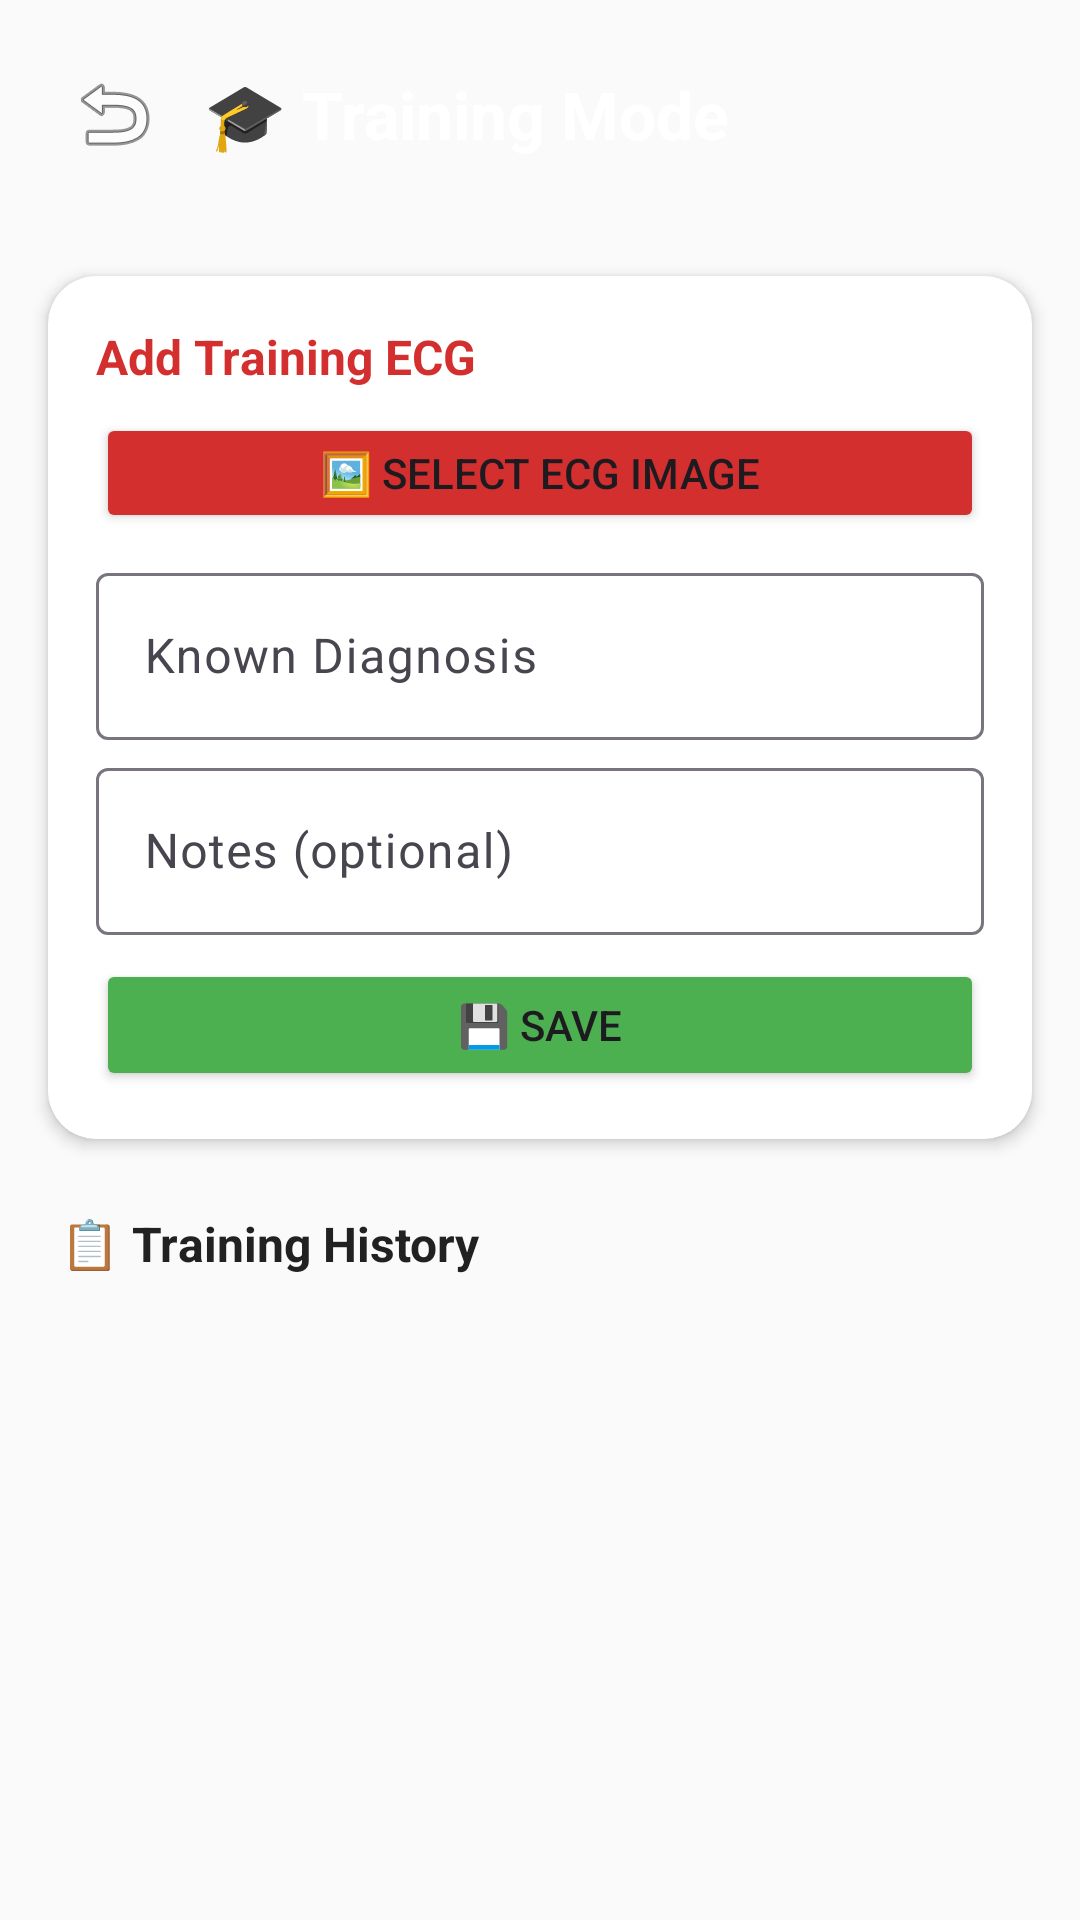

Where icons sit on this 1080 × 1920 app screen, as (x1, y1, x2, y2):
revert: (81, 83, 150, 146)
